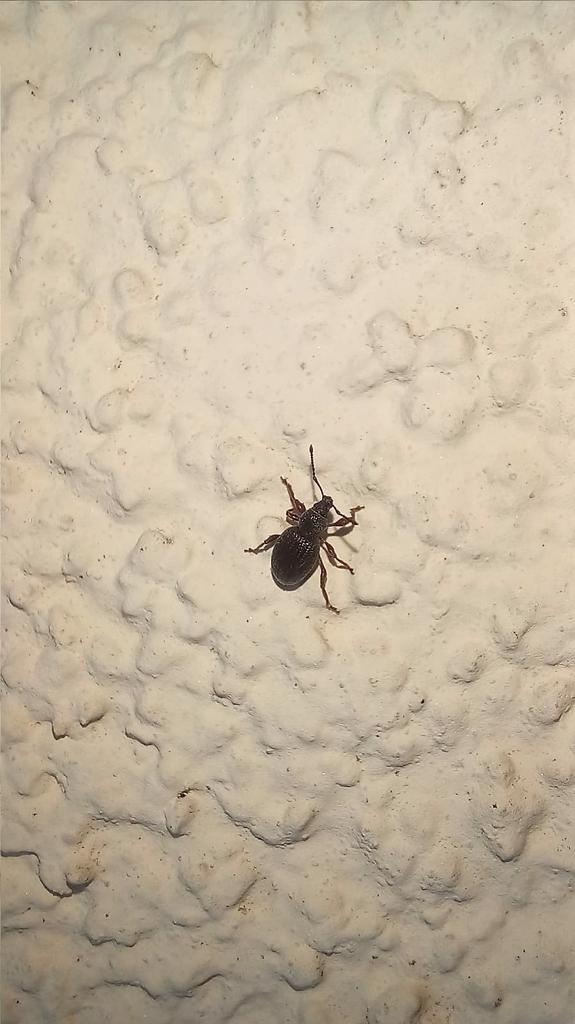weevils: (226, 426, 399, 643)
